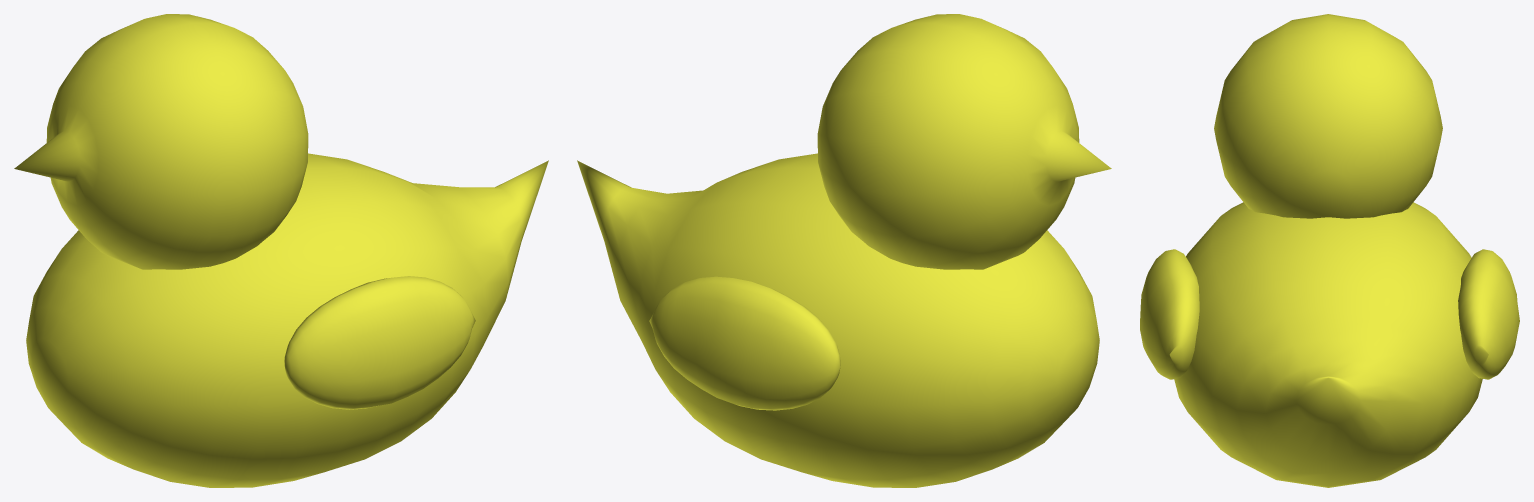
The model's file is rubberducky.fbx.
3 renders of one model, left to right at view 1: azimuth 30°, elevation 25°; view 2: azimuth 150°, elevation 25°; view 3: azimuth 270°, elevation 25°, orthographic. The views are drawn at different scales.
Parts seen in each view (by area): view 1: pSphere5; view 2: pSphere5; view 3: pSphere5.
Part boxes in pixels (x1,y1,x2,y2): pSphere5: (14,14,548,487); pSphere5: (577,14,1111,487); pSphere5: (1140,14,1519,487).
Bounding box in the file's own units: 22.21 × 18.21 × 15.71.
